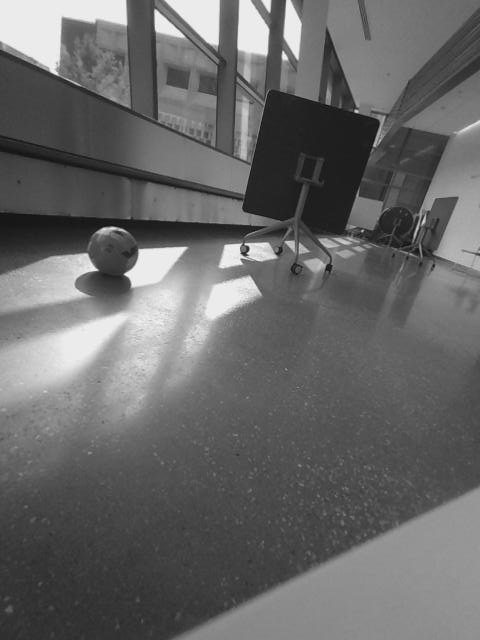ball: (84, 225, 142, 279)
